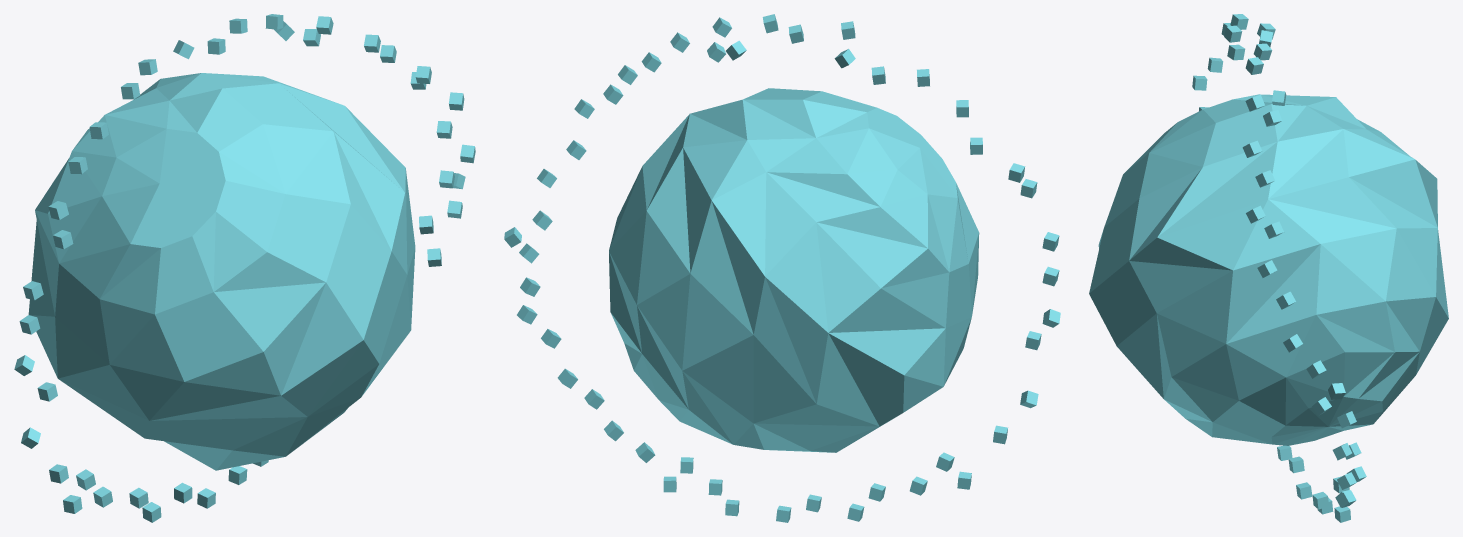
The model's file is uranus.glb.
3 views of the same model, side by side, from view 1: azimuth 30°, elevation 25°; view 2: azimuth 150°, elevation 25°; view 3: azimuth 270°, elevation 25° (orthographic). The views are drawn at different scales.
Visible parts, largest first — view 1: Node; view 2: Node; view 3: Node.
Part boxes in pixels (<box>): Node: <box>14,14,475,522</box>; Node: <box>504,14,1060,522</box>; Node: <box>1089,14,1448,522</box>.
Bounding box in the file's own units: 0.7689 × 0.7126 × 0.5086.
